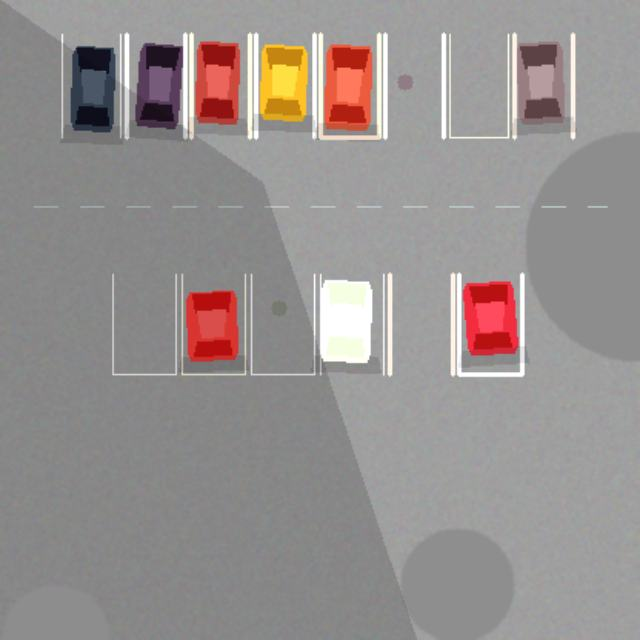space-empty: (112, 274, 175, 374), (251, 274, 314, 374), (389, 274, 452, 374), (449, 34, 508, 137), (385, 34, 443, 137)
space-occupied: (458, 274, 522, 374), (182, 274, 245, 374), (320, 274, 383, 374), (126, 34, 185, 137), (255, 34, 314, 137), (62, 34, 120, 137), (191, 34, 249, 137), (320, 34, 378, 137), (514, 34, 572, 137)
